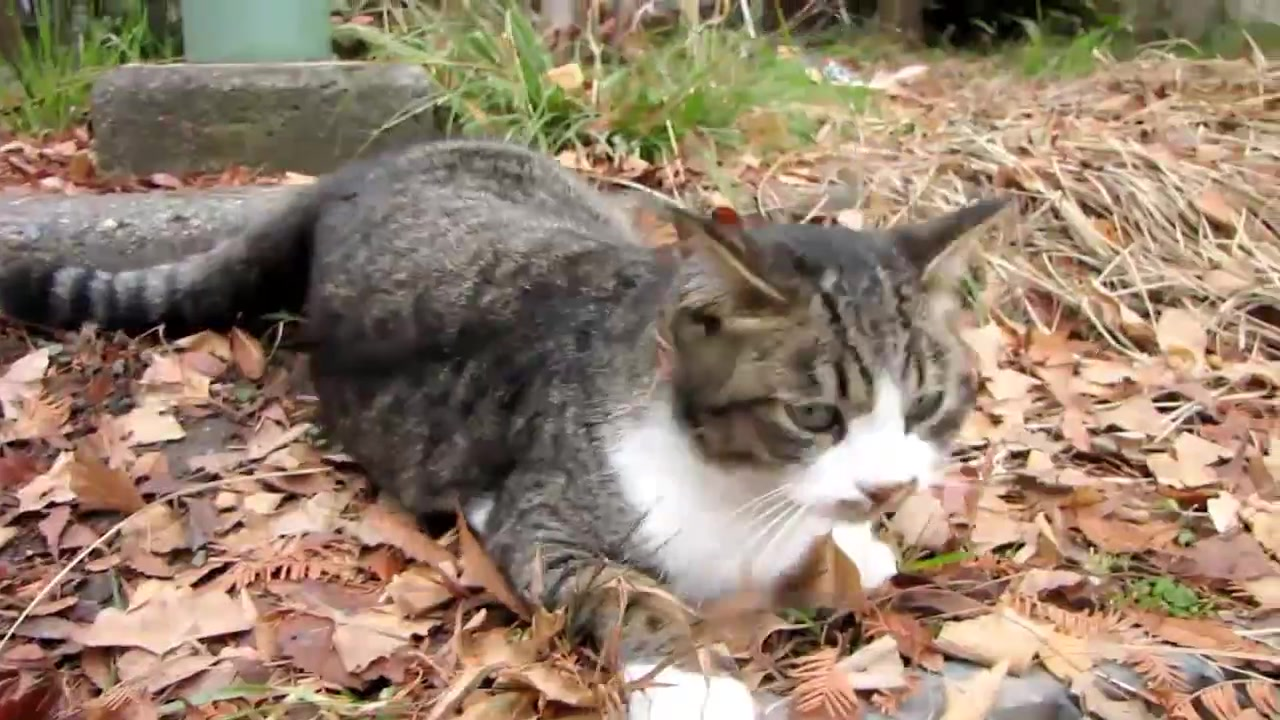cat: (15, 138, 1014, 720)
